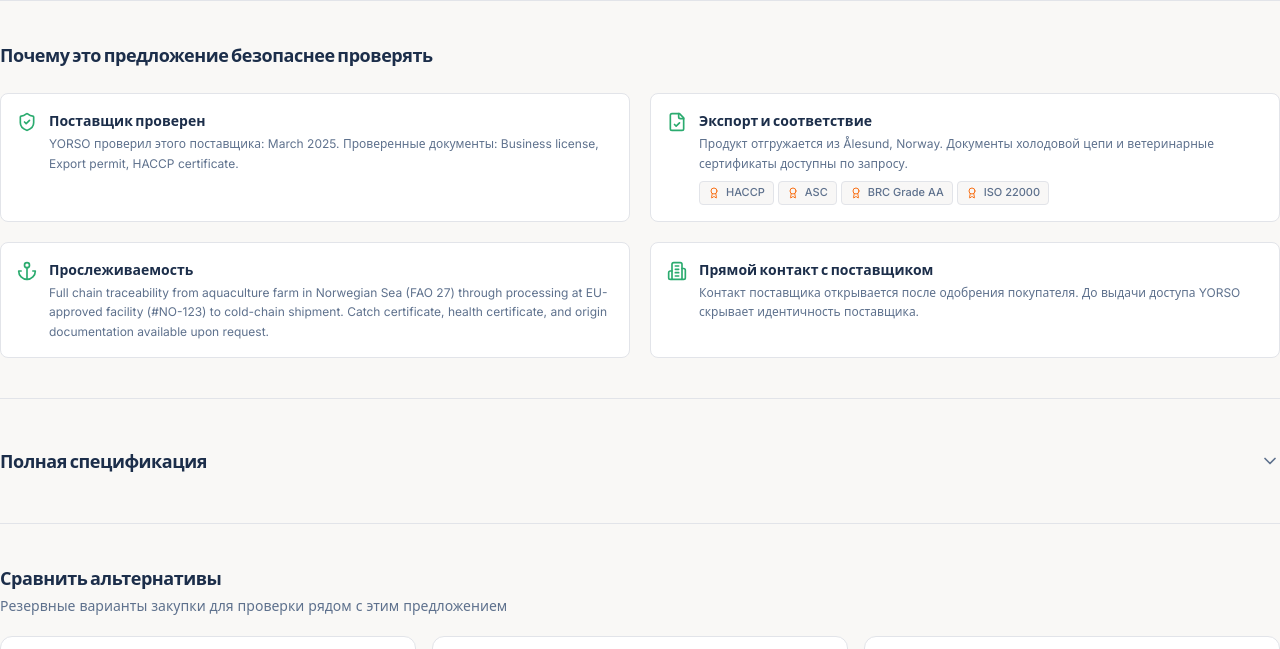
Test case: offer detail decision support locale/a11y › renders Russian buyer decision support labels without locked-price leakage
Expected: the element with test id "offer-trust-section" shows "Почему это предложение безопаснее проверять", x1=0 y1=43 x2=433 y2=66
Expected: the element with test id "offer-trust-section" shows "Экспорт и соответствие", x1=699 y1=111 x2=872 y2=129
Step 1. Click the button "Полная спецификация" → click(103, 461), box x1=0 y1=439 x2=1279 y2=483
(page scrolled)
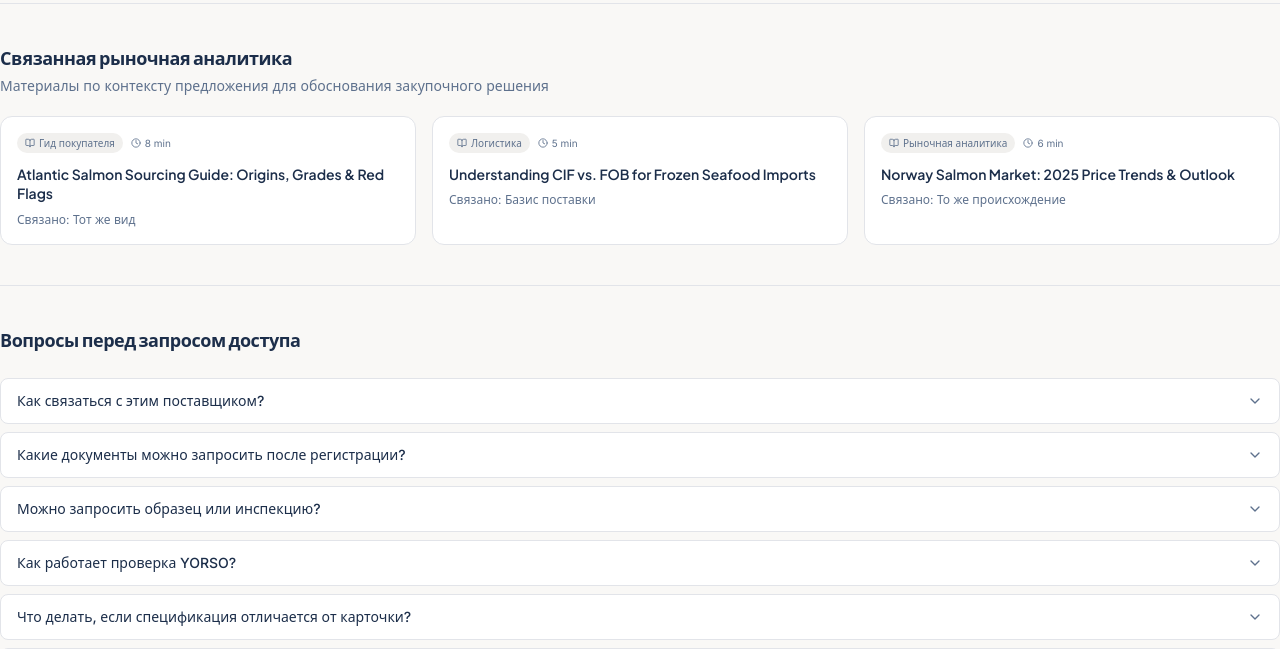
Expected: the element with test id "offer-related-insights" shows "Связанная рыночная аналитика", x1=0 y1=46 x2=292 y2=69
Expected: the element with test id "offer-related-insights" shows "Гид покупателя", x1=0 y1=116 x2=416 y2=245
Step 2. Click the button "Как связаться с этим поставщиком?" → click(141, 400), box x1=1 y1=378 x2=1279 y2=422
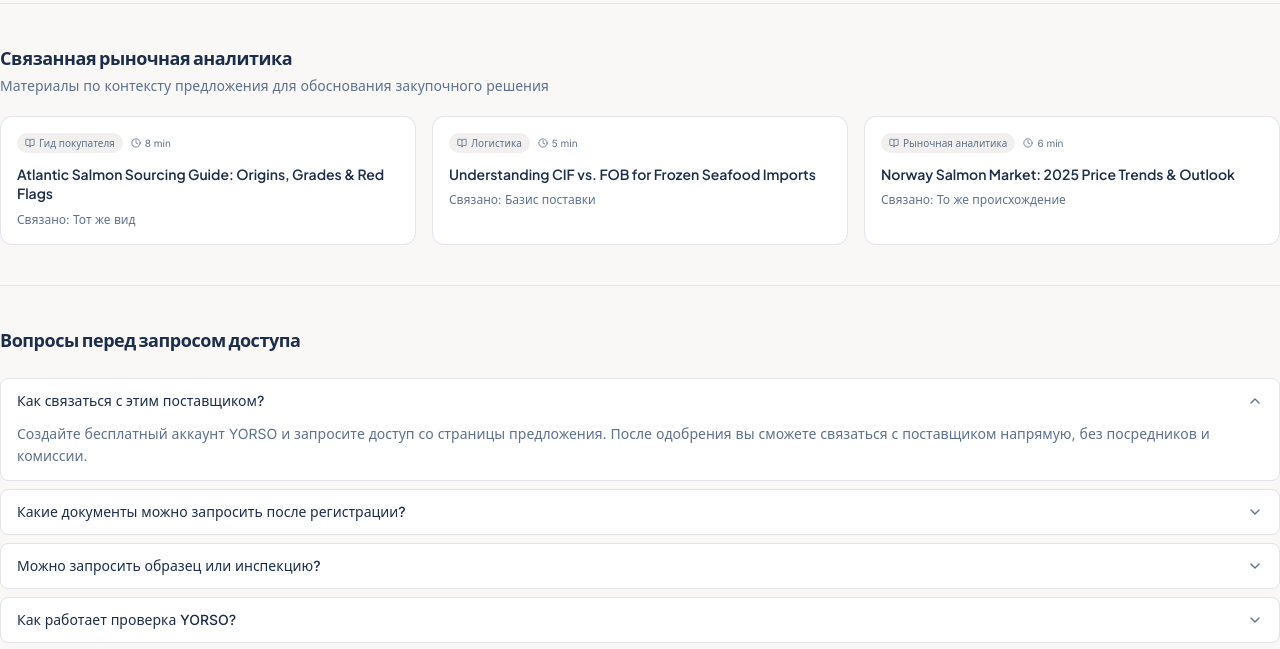
Result: the button "Как связаться с этим поставщиком?" is expanded at x1=1 y1=378 x2=1279 y2=422
Result: the text "После одобрения вы сможете связаться с поставщиком напрямую" is shown at x1=17 y1=424 x2=1210 y2=464
